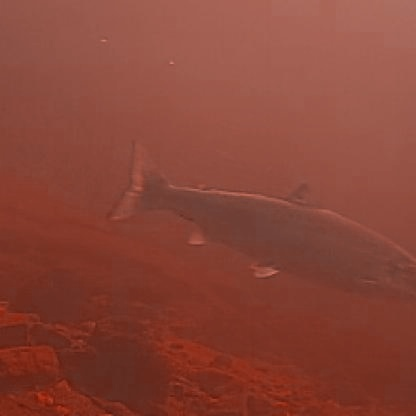salmon: (101, 134, 414, 302)
